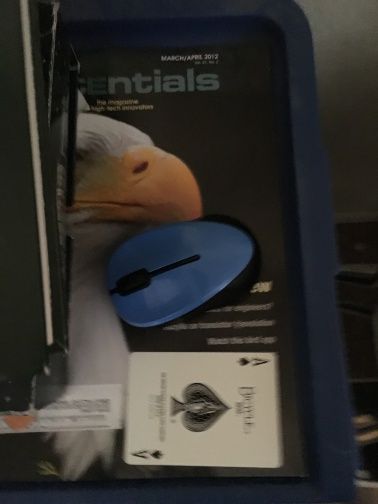ace: (121, 349, 282, 469)
